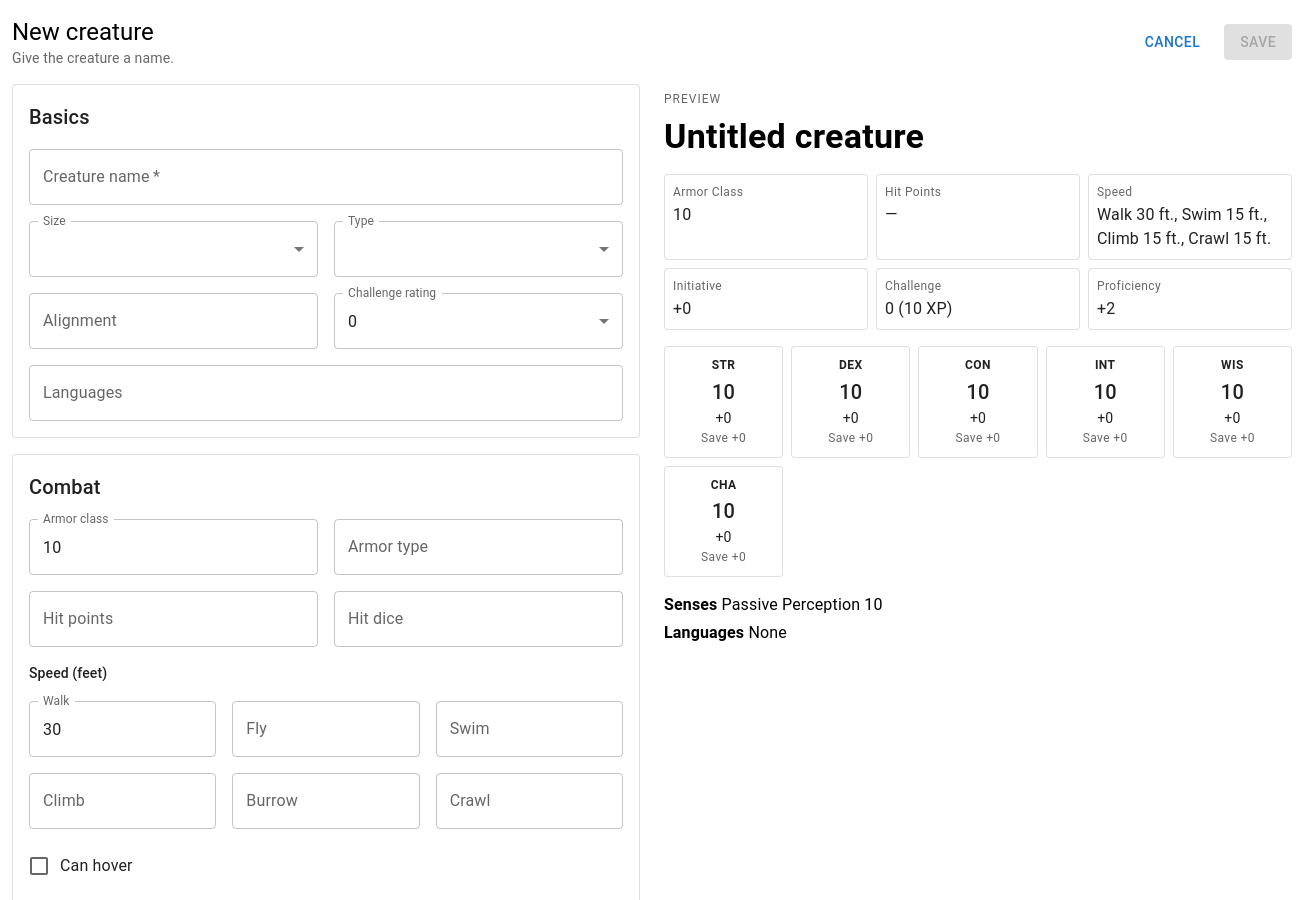
it: CreatureEditor › shows the backend's message when saving fails
Type "Gribble" into the field labelled "Creature name *" at coordinates (326, 177), box [29,149,623,205]
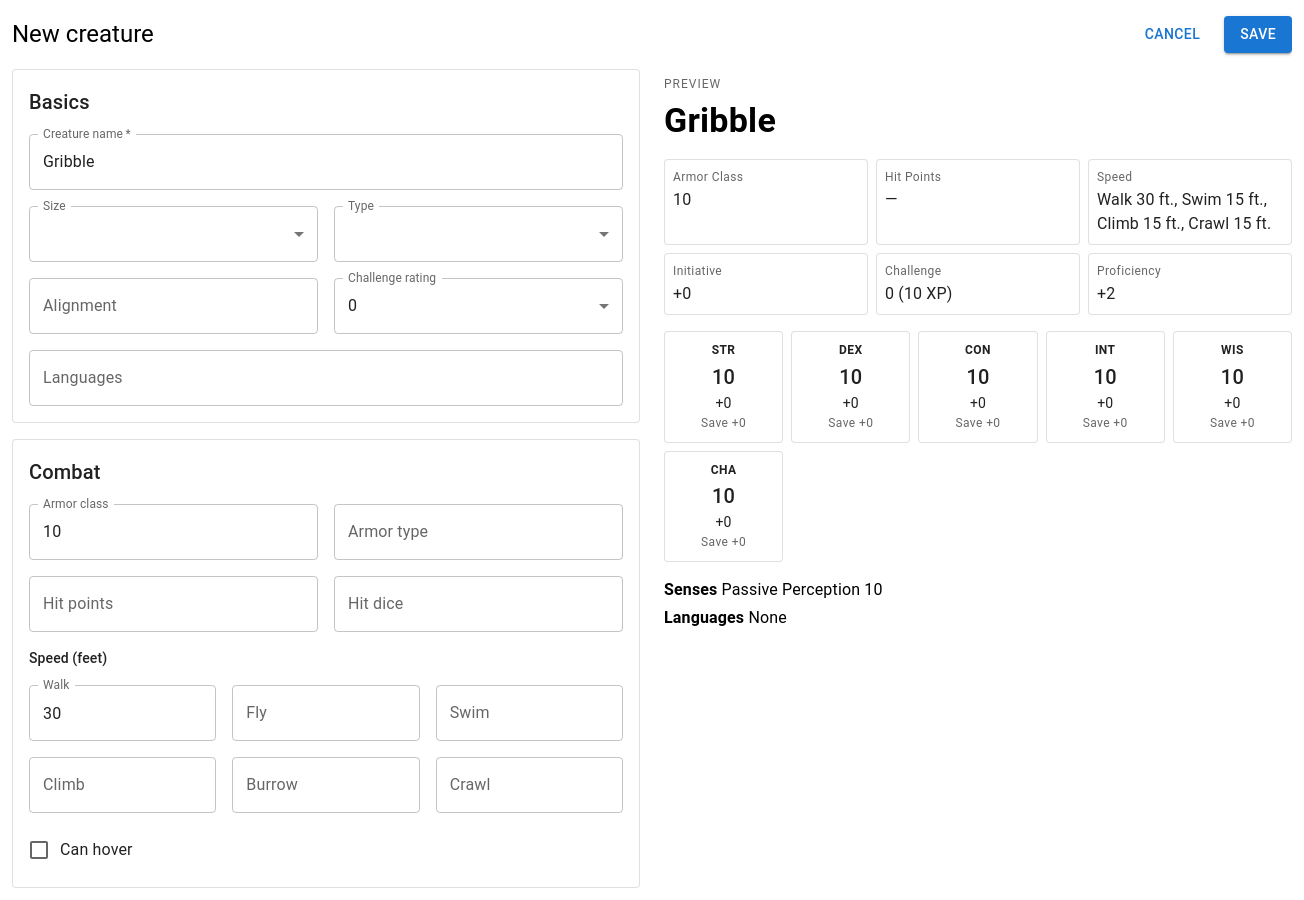
Click the button "Save" at coordinates (1258, 34), box [1224,16,1292,52]
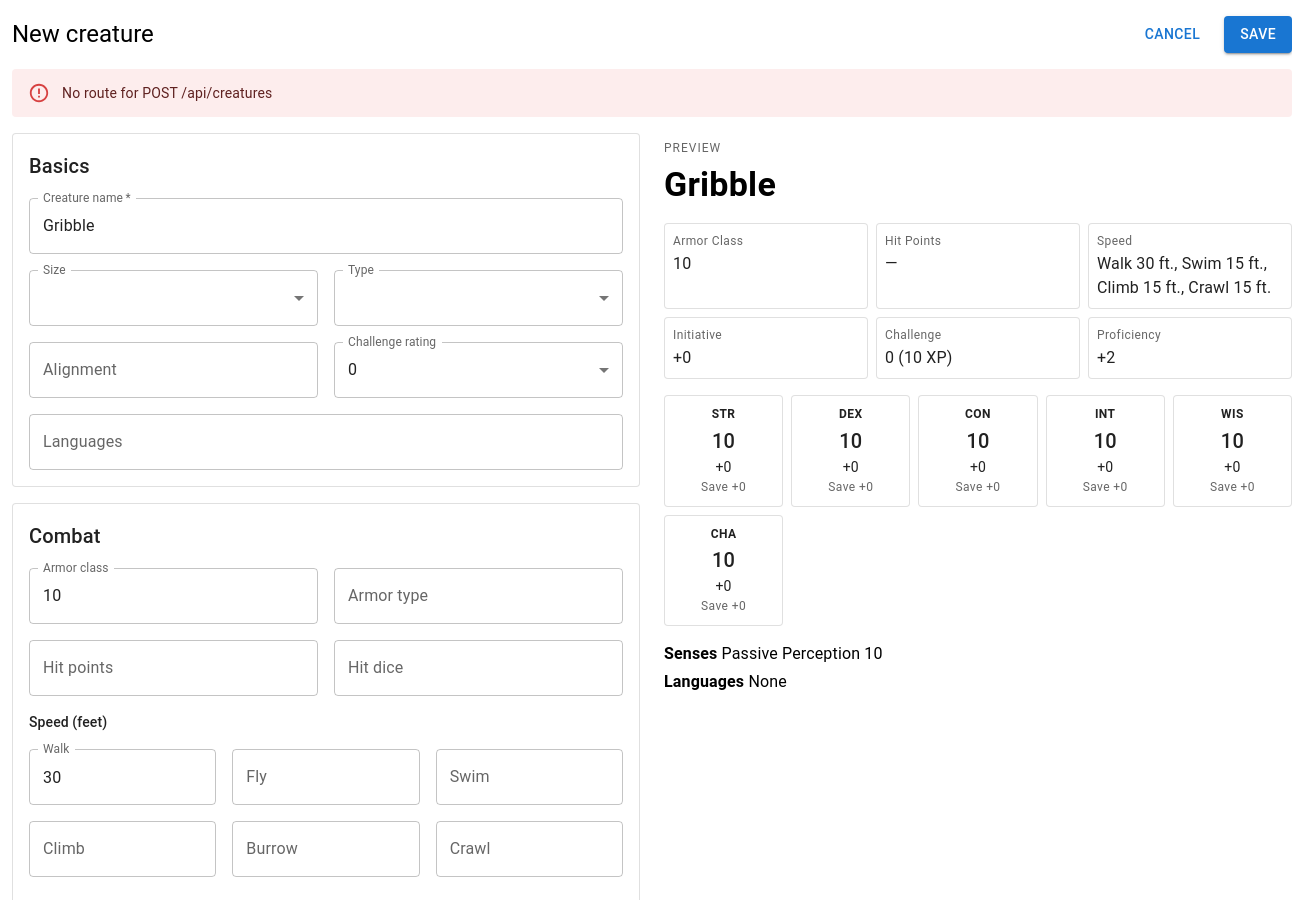
Expected: the button "Save" is enabled, [1224,16,1292,52]
Expected: the message reads "No route for POST /api/creatures", [62,84,272,100]
